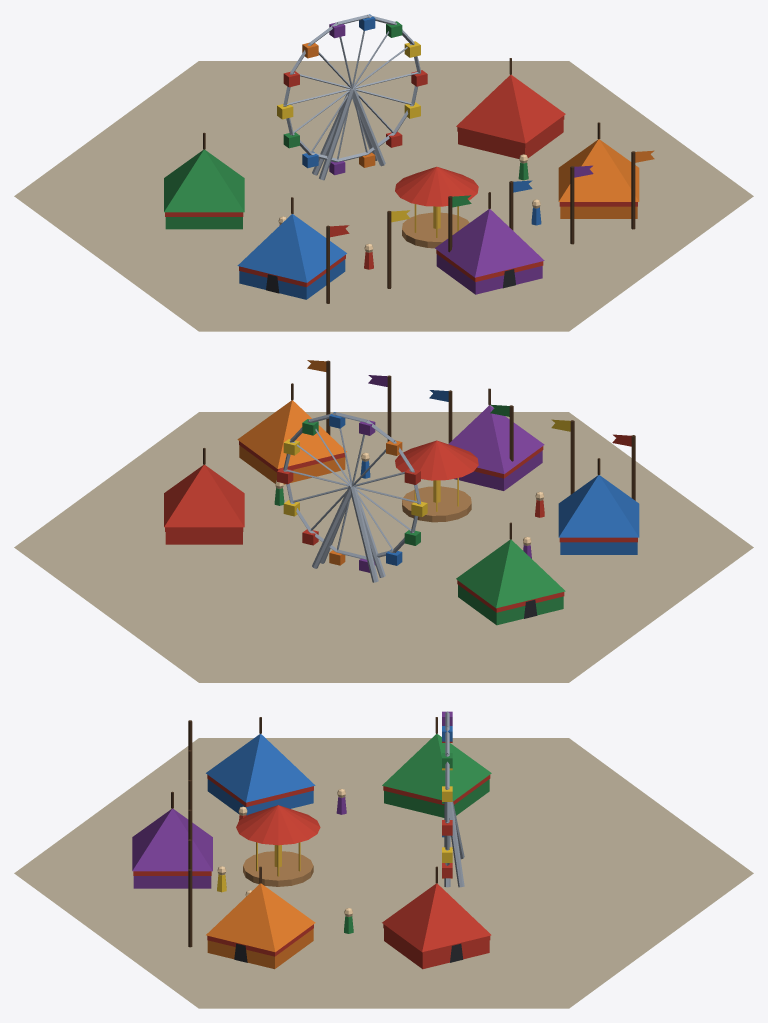
File: district_street_carnival_1.fbx
The picture shows the model from 3 angles, top to bottom: view 1: azimuth 30°, elevation 25°; view 2: azimuth 150°, elevation 25°; view 3: azimuth 270°, elevation 25°; orthographic projection.
Parts seen in each view (by area): view 1: district_street_carnival_1; view 2: district_street_carnival_1; view 3: district_street_carnival_1.
Part boxes in pixels (<box>): district_street_carnival_1: <box>14,14,753,331</box>; district_street_carnival_1: <box>14,360,753,682</box>; district_street_carnival_1: <box>14,711,753,1008</box>.
Bounding box in the file's own units: 182 × 48.45 × 210.
